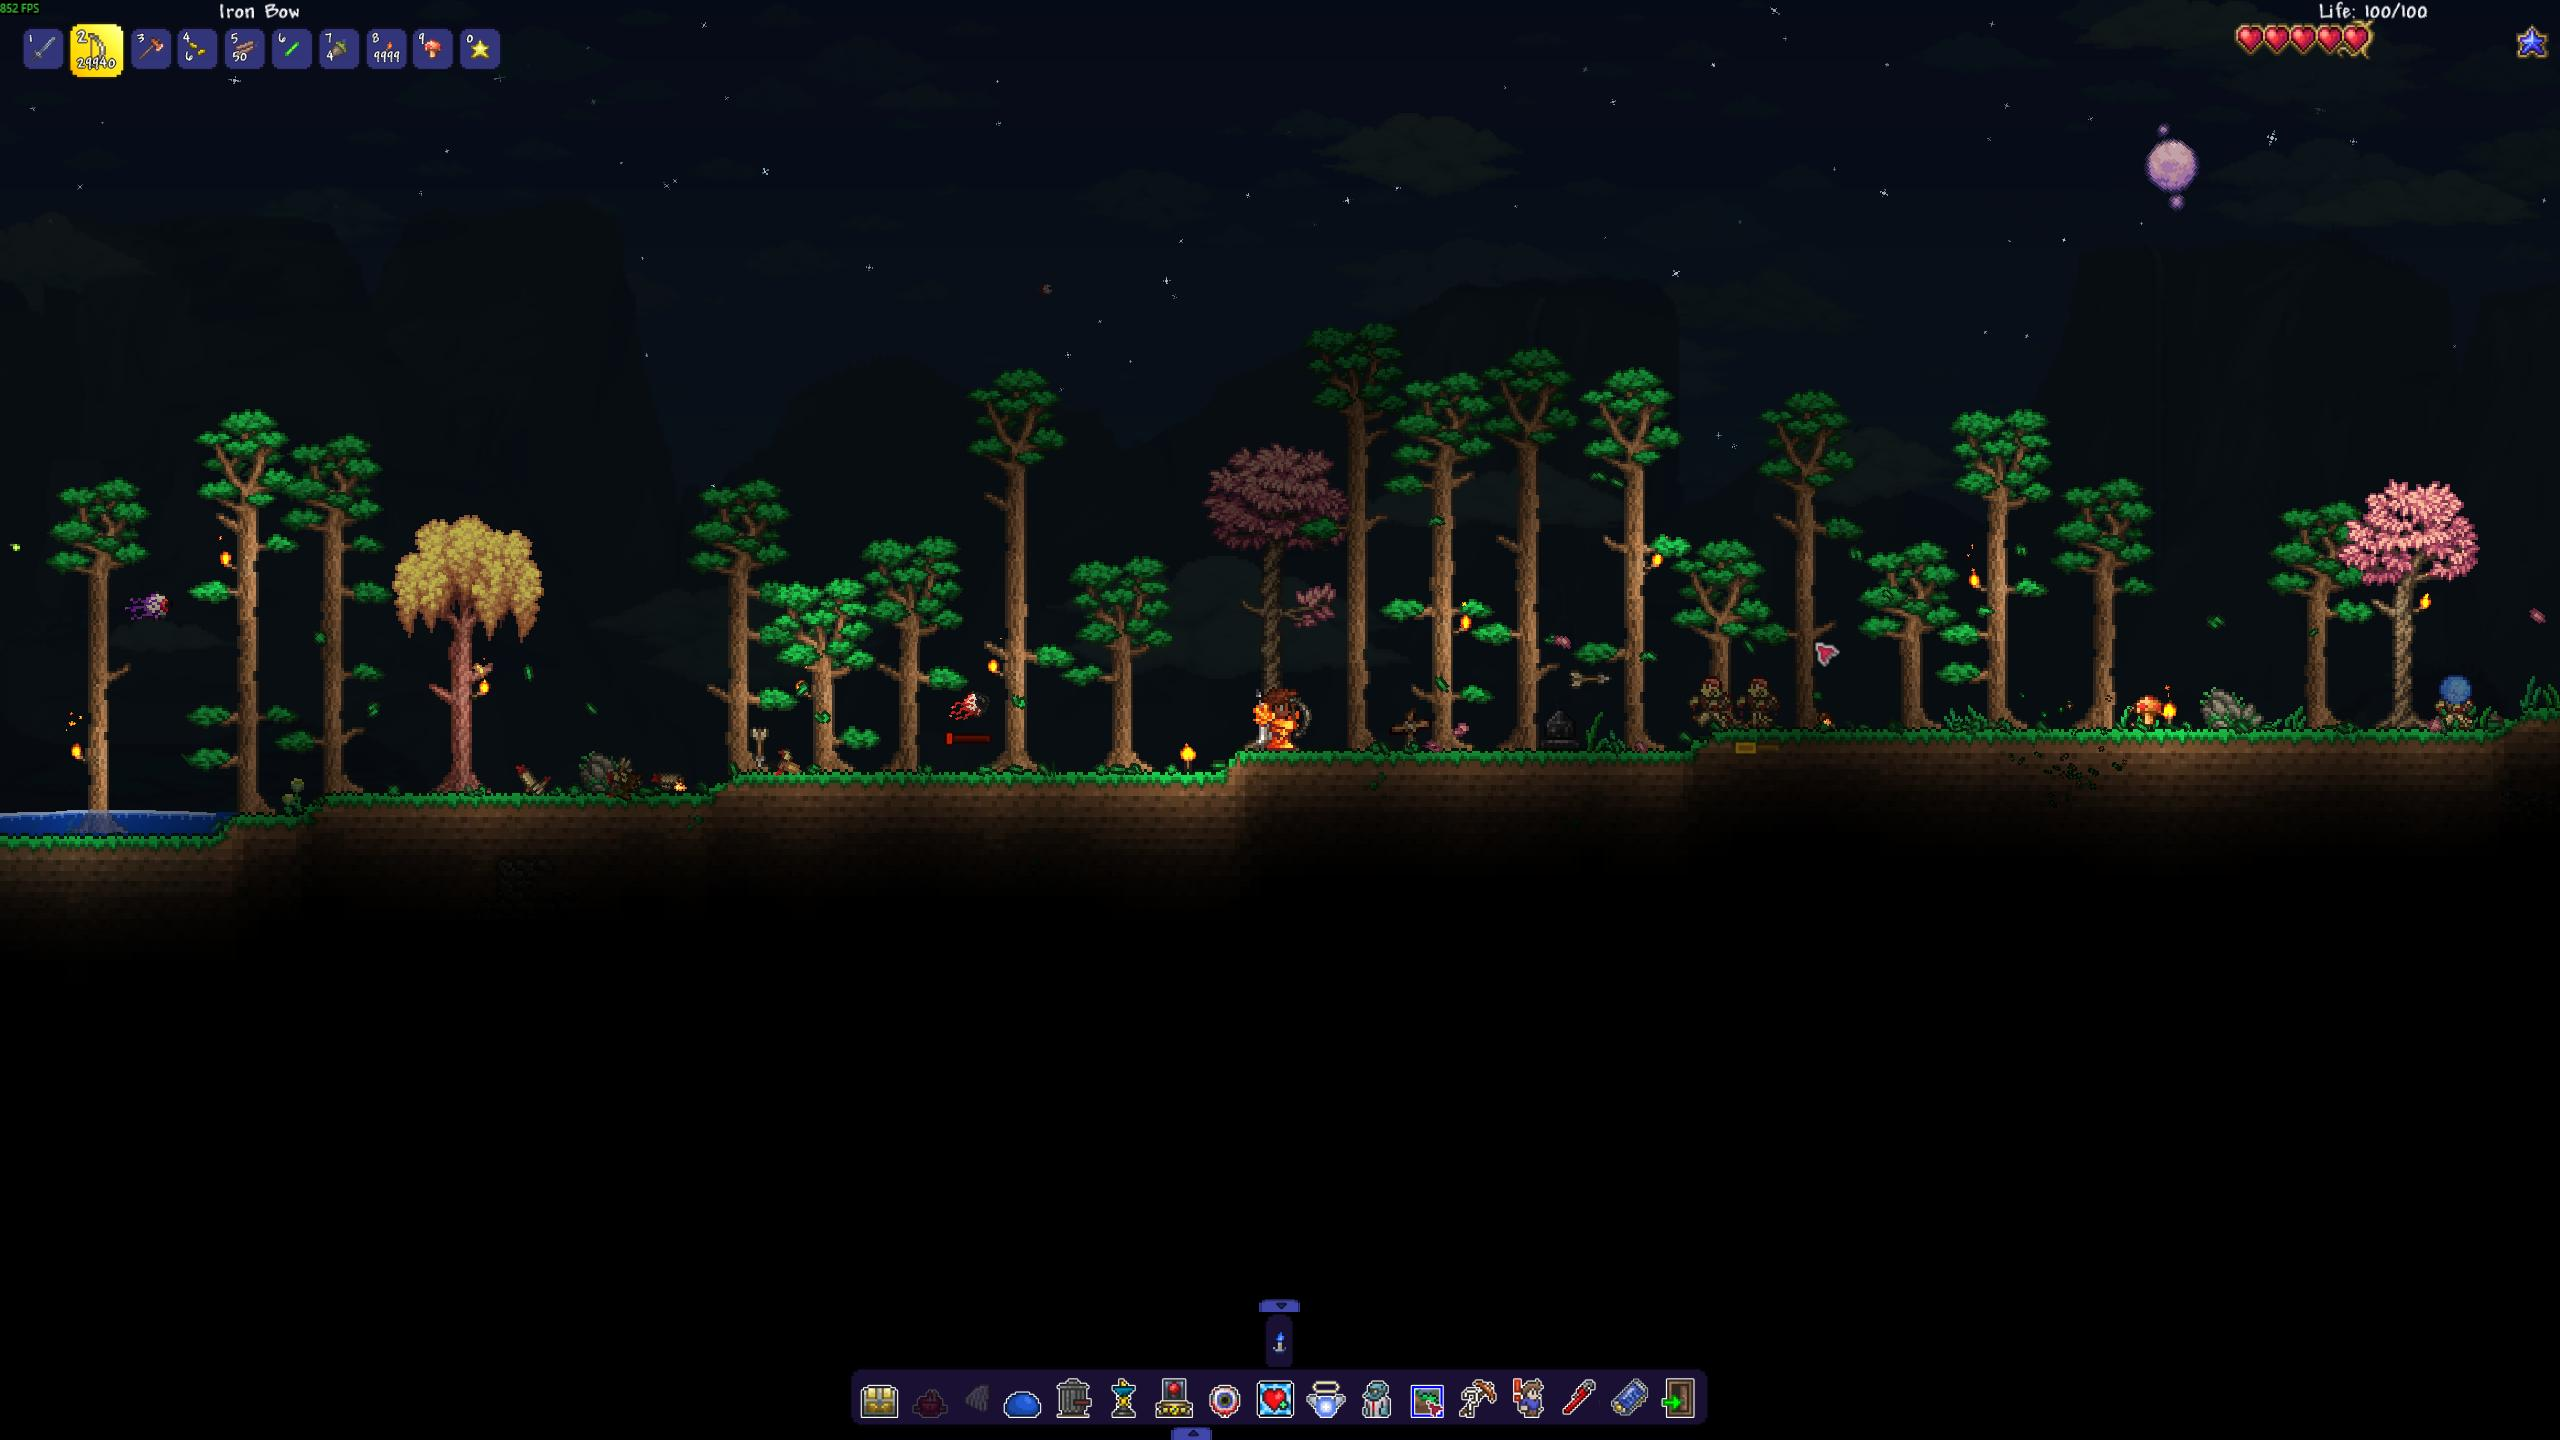Demon Eye: (116, 585, 181, 629), (942, 686, 992, 728)
Zombie: (2426, 666, 2477, 733), (1734, 670, 1786, 731), (1686, 668, 1732, 730)
